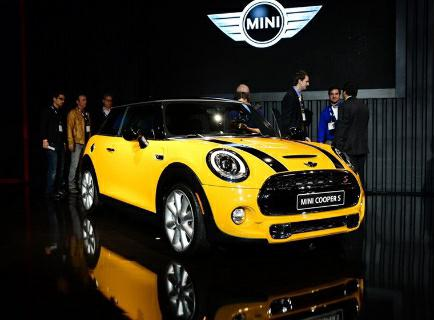MINI: (78, 104, 371, 277)
